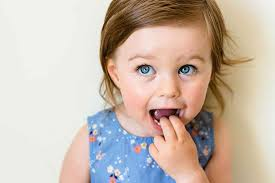person: (105, 1, 216, 138)
